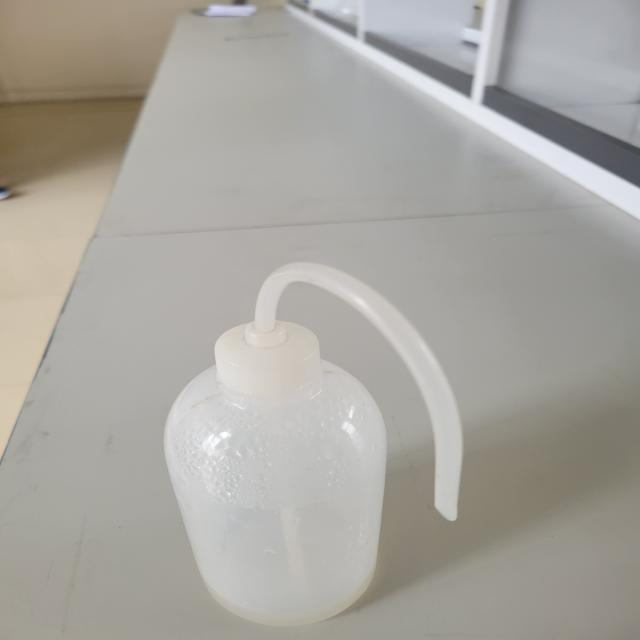Wash_Bottle: (123, 189, 490, 640)
